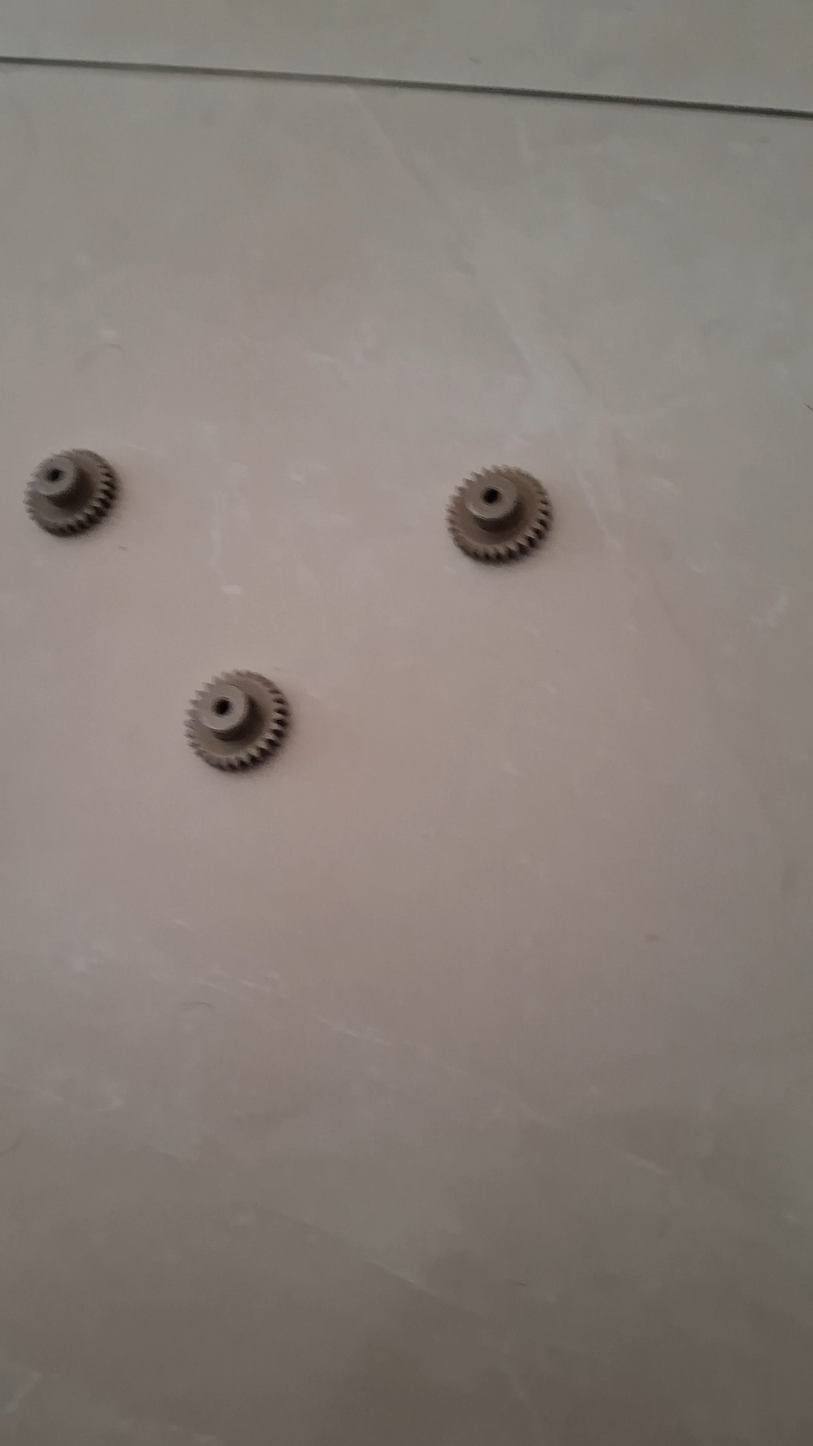spur gear: (186, 671, 289, 770), (447, 467, 552, 563), (26, 449, 116, 535)
